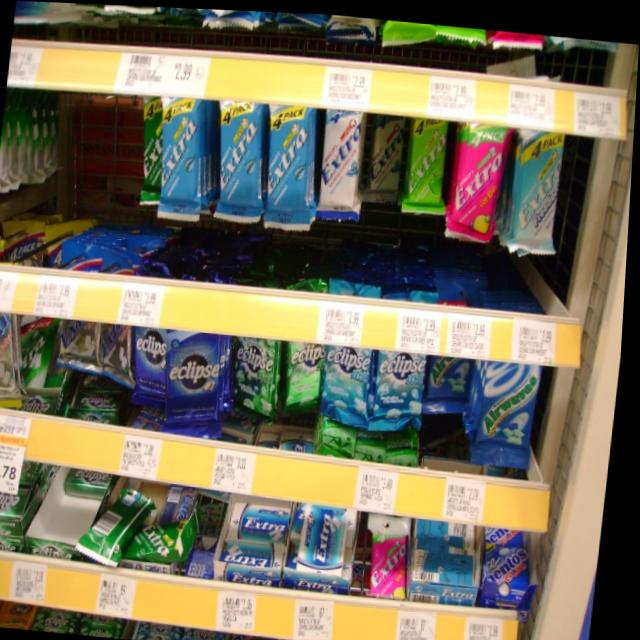q94: (311, 96, 373, 228)
